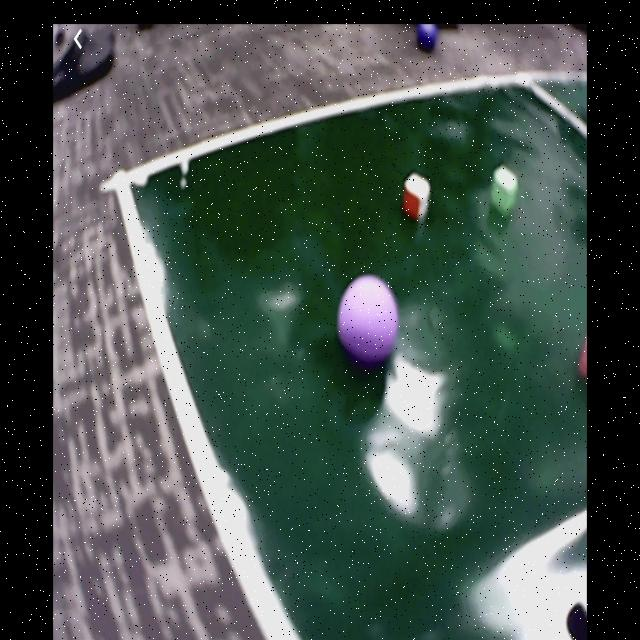ball: (339, 277, 399, 358), (417, 25, 438, 51)
